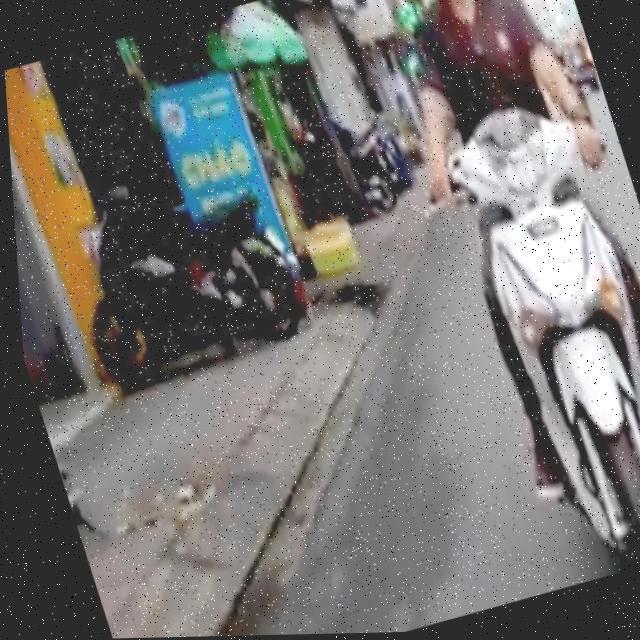motorcycle: (396, 83, 640, 594), (41, 152, 334, 404)
